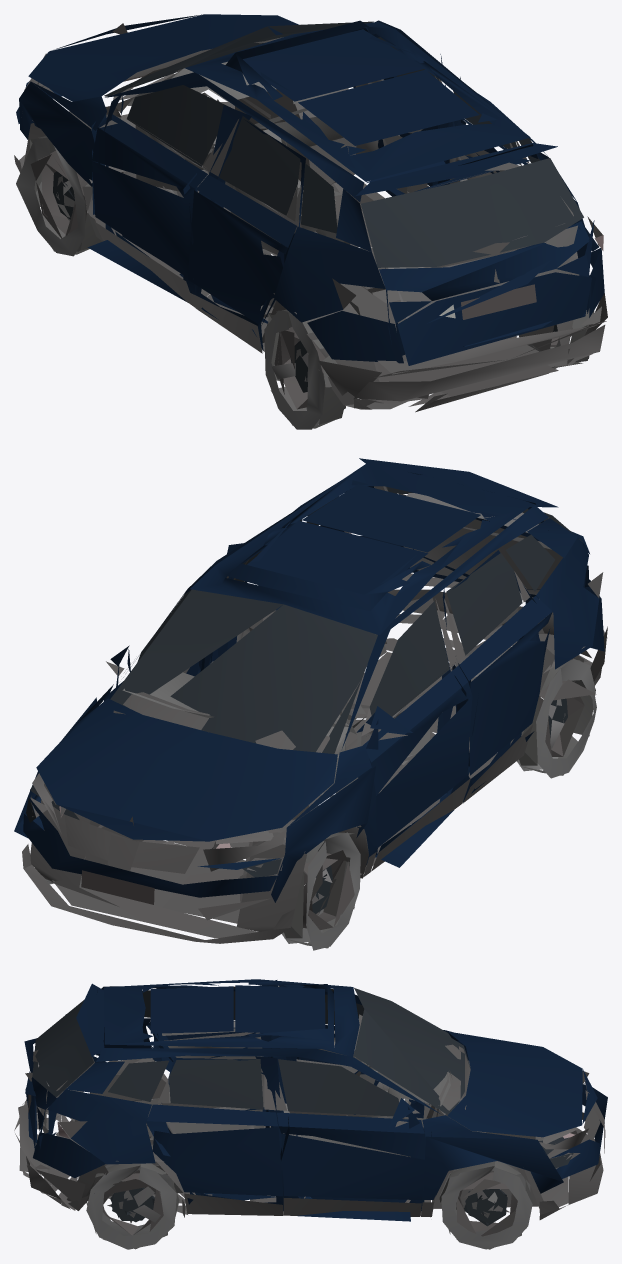
Rendered from karoq_lo.glb.
The picture shows the model from 3 angles, top to bottom: view 1: azimuth 30°, elevation 25°; view 2: azimuth 150°, elevation 25°; view 3: azimuth 270°, elevation 25°; orthographic projection. The views are drawn at different scales.
Visible parts, largest first — view 1: car_karoq; view 2: car_karoq; view 3: car_karoq.
Part boxes in pixels (x1,y1,x2,y2): car_karoq: (14, 14, 607, 429); car_karoq: (14, 458, 607, 950); car_karoq: (14, 979, 607, 1249).
Bounding box in the file's own units: 1.97 × 1.65 × 4.41.
